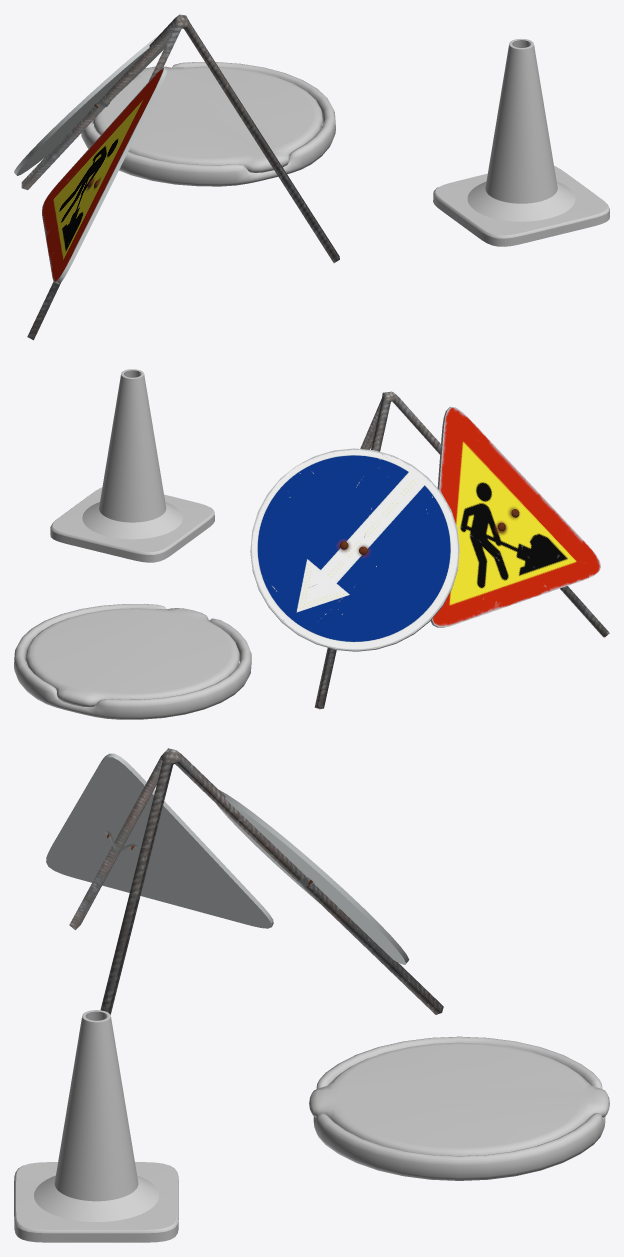
3 views of the same model, one above another, from view 1: azimuth 30°, elevation 25°; view 2: azimuth 150°, elevation 25°; view 3: azimuth 270°, elevation 25° (orthographic). The views are drawn at different scales.
Visible parts, largest first — view 1: Scene; view 2: Scene; view 3: Scene.
Boxes of the visible parts, left/top/right/bottom form: Scene: left=14, top=14, right=609, bottom=340; Scene: left=14, top=369, right=609, bottom=719; Scene: left=14, top=748, right=609, bottom=1242.
Bounding box in the file's own units: 192 × 80.37 × 151.
